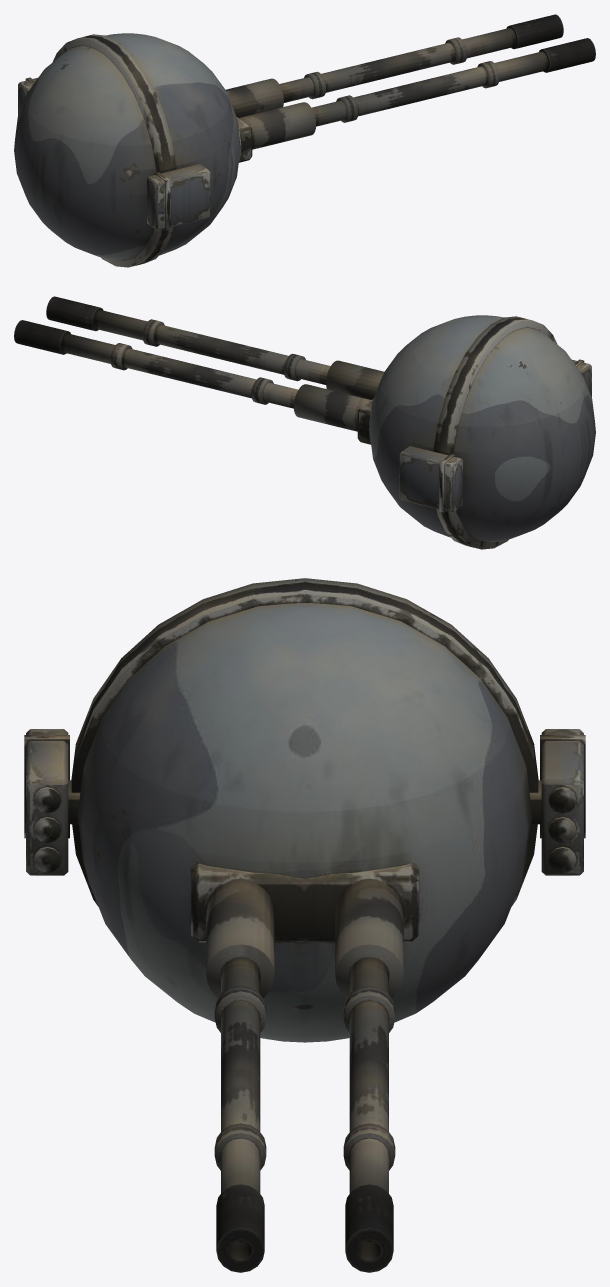
The model's file is turret_kit_tail_ball_t1_sea_fog.glb.
3 views of the same model, one above another, from view 1: azimuth 30°, elevation 25°; view 2: azimuth 150°, elevation 25°; view 3: azimuth 270°, elevation 25° (orthographic). The views are drawn at different scales.
Parts seen in each view (by area): view 1: turret_tail_ball_t1, pods; view 2: turret_tail_ball_t1, pods; view 3: turret_tail_ball_t1, pods.
Boxes of the visible parts, x1,y1,x2,y2 form: turret_tail_ball_t1: (14, 14, 595, 267); pods: (18, 77, 210, 230); turret_tail_ball_t1: (14, 296, 595, 549); pods: (399, 359, 591, 512); turret_tail_ball_t1: (71, 578, 538, 1272); pods: (24, 729, 585, 875).
Bounding box in the file's own units: 1.66 × 0.62 × 0.7402.
2 materials, 2 textured.
